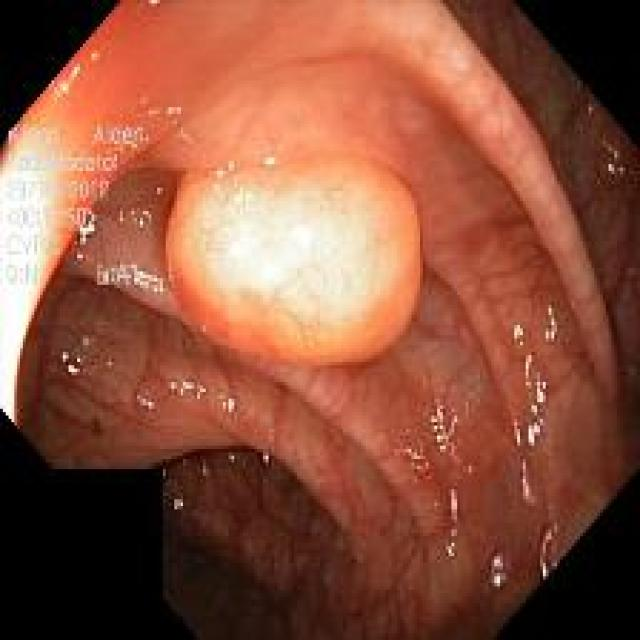Polyps: (166, 157, 421, 364)
